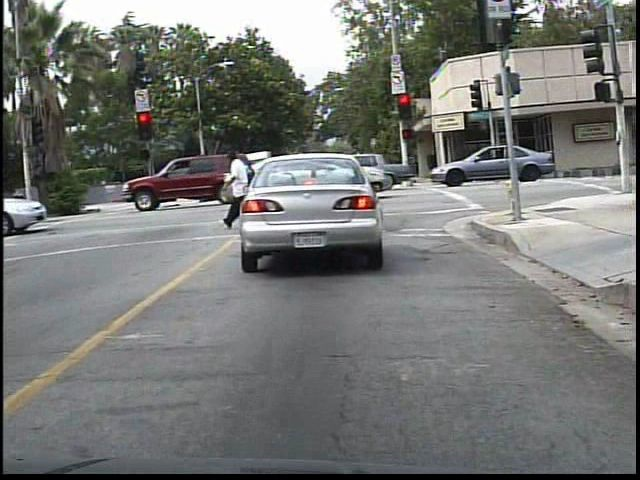person: (218, 148, 257, 239)
